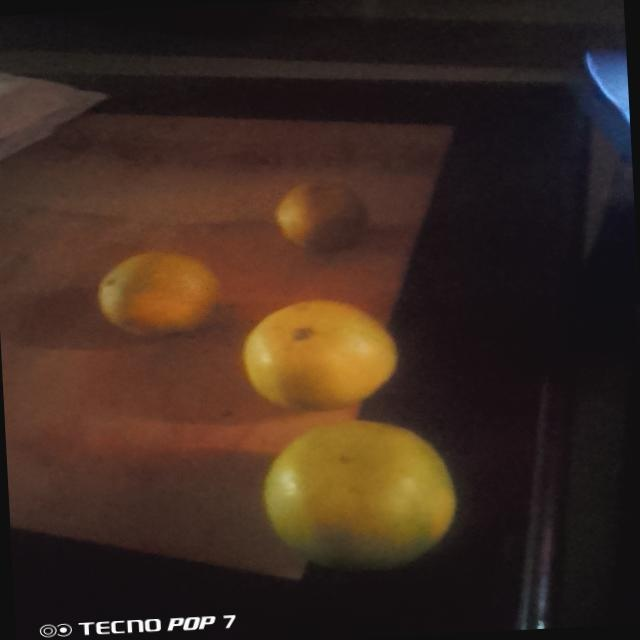agrume: (251, 423, 457, 572), (241, 286, 407, 416), (96, 250, 221, 350), (273, 176, 363, 259)
